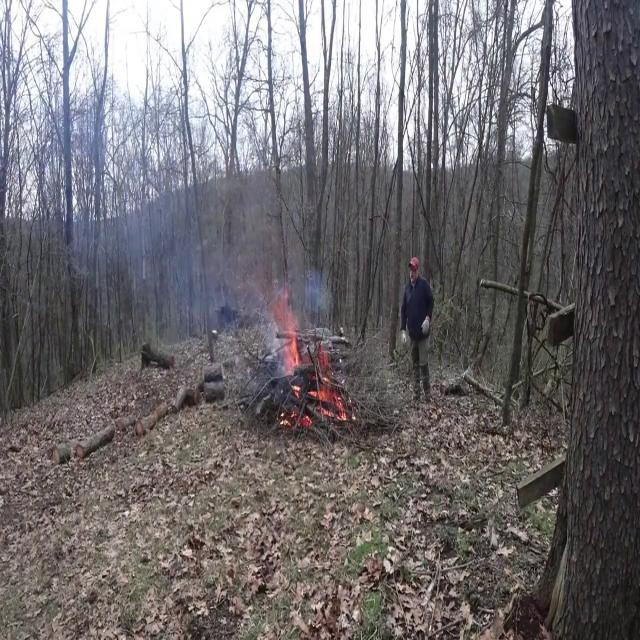Fire: (272, 279, 304, 383)
Smoke: (132, 198, 250, 336)
